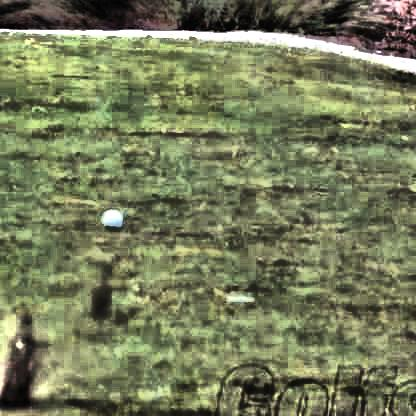golfball: (99, 207, 121, 229)
